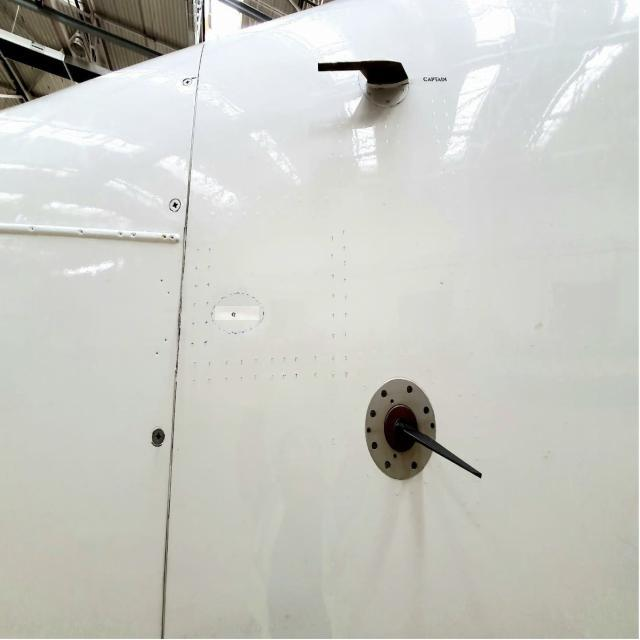crack: (216, 307, 260, 321)
